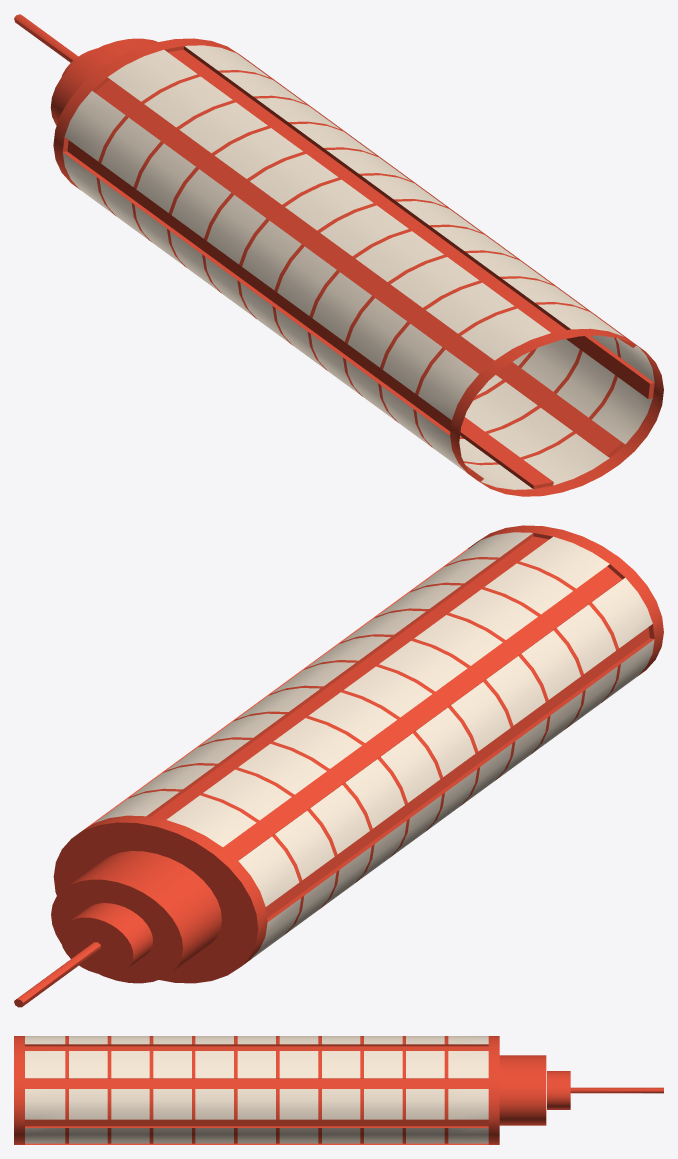
The model's file is Building02.fbx.
3 renders of one model, top to bottom at view 1: azimuth 30°, elevation 25°; view 2: azimuth 150°, elevation 25°; view 3: azimuth 270°, elevation 25°, orthographic. The views are drawn at different scales.
Parts seen in each view (by area): view 1: c041; view 2: c041; view 3: c041.
Part boxes in pixels (x1,y1,x2,y2): c041: (14,14,663,496); c041: (14,525,663,1007); c041: (14,1036,663,1144).
Bounding box in the file's own units: 1043 × 745 × 4796.
